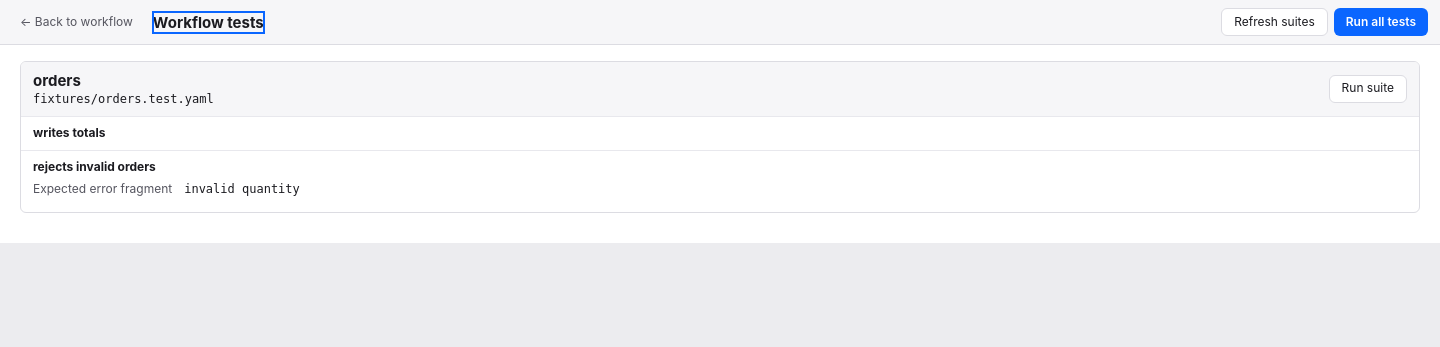
Scenario: keeps tests idle if a requested save fails
Expected: the element "orders" is shown, [20, 61, 1420, 213]
Click the button "Run all tests" at [1381, 22], box [1334, 8, 1428, 36]
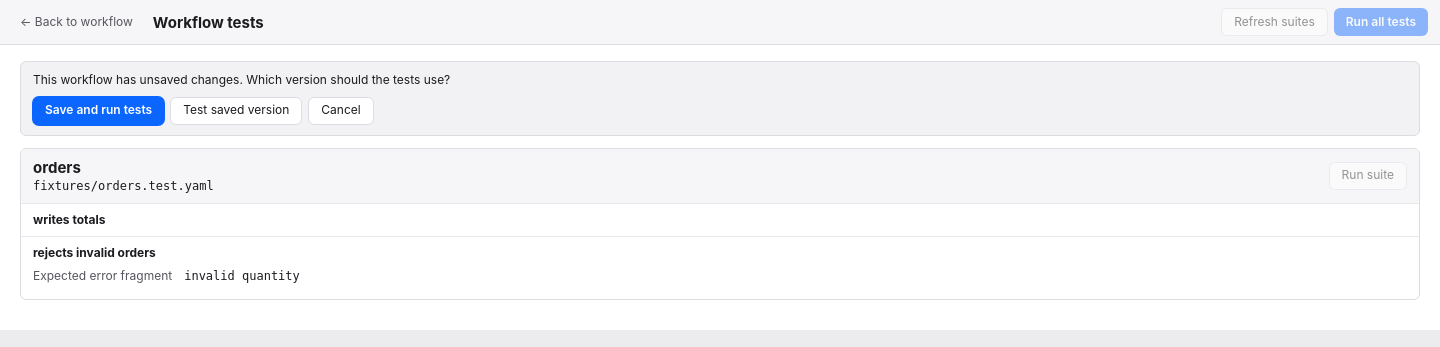
Click the button "Save and run tests" at [99, 111], box [33, 97, 164, 125]
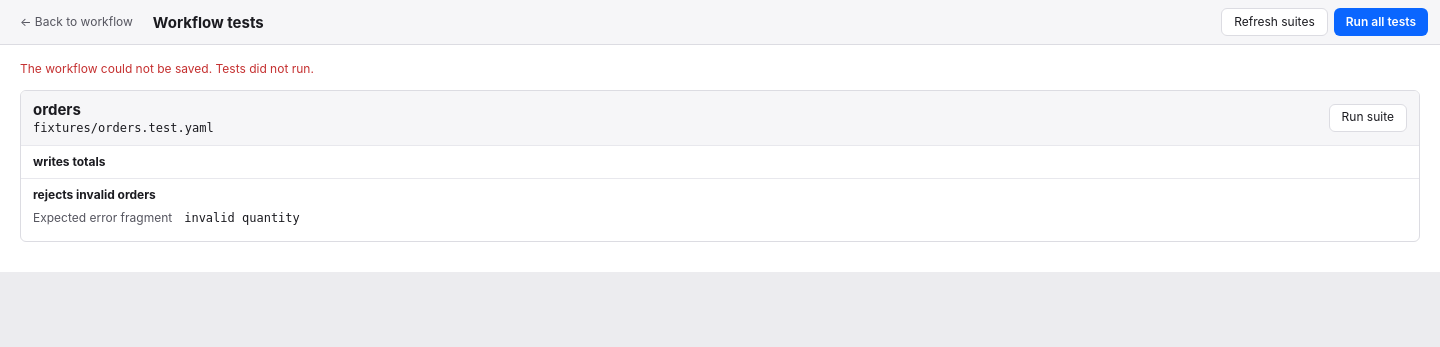
Expected: the message shows "Tests did not run", [20, 61, 314, 76]
